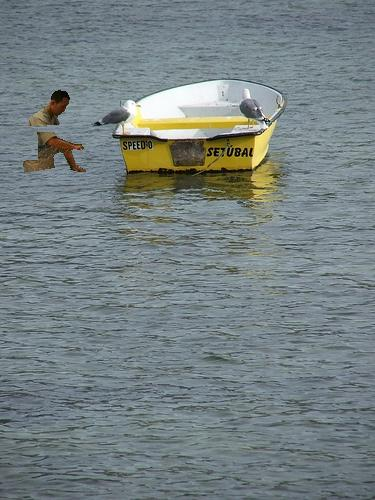tampered: (24, 91, 86, 172)
